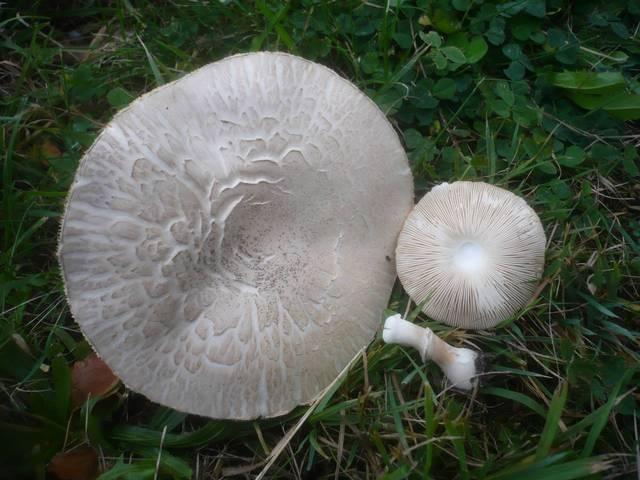Non-edible Mushroom: (55, 49, 415, 421), (394, 179, 547, 330), (381, 312, 479, 391)
